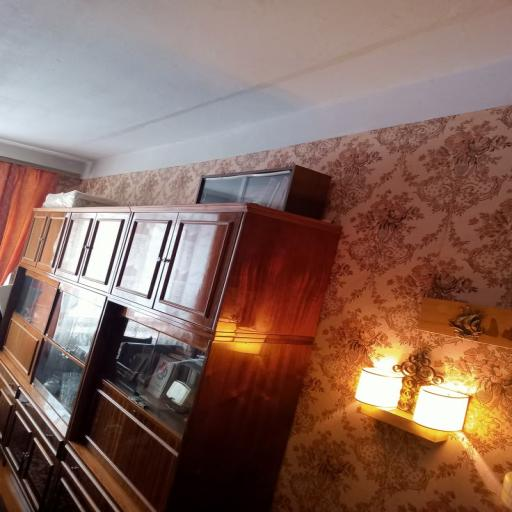car: (0, 205, 340, 511)
